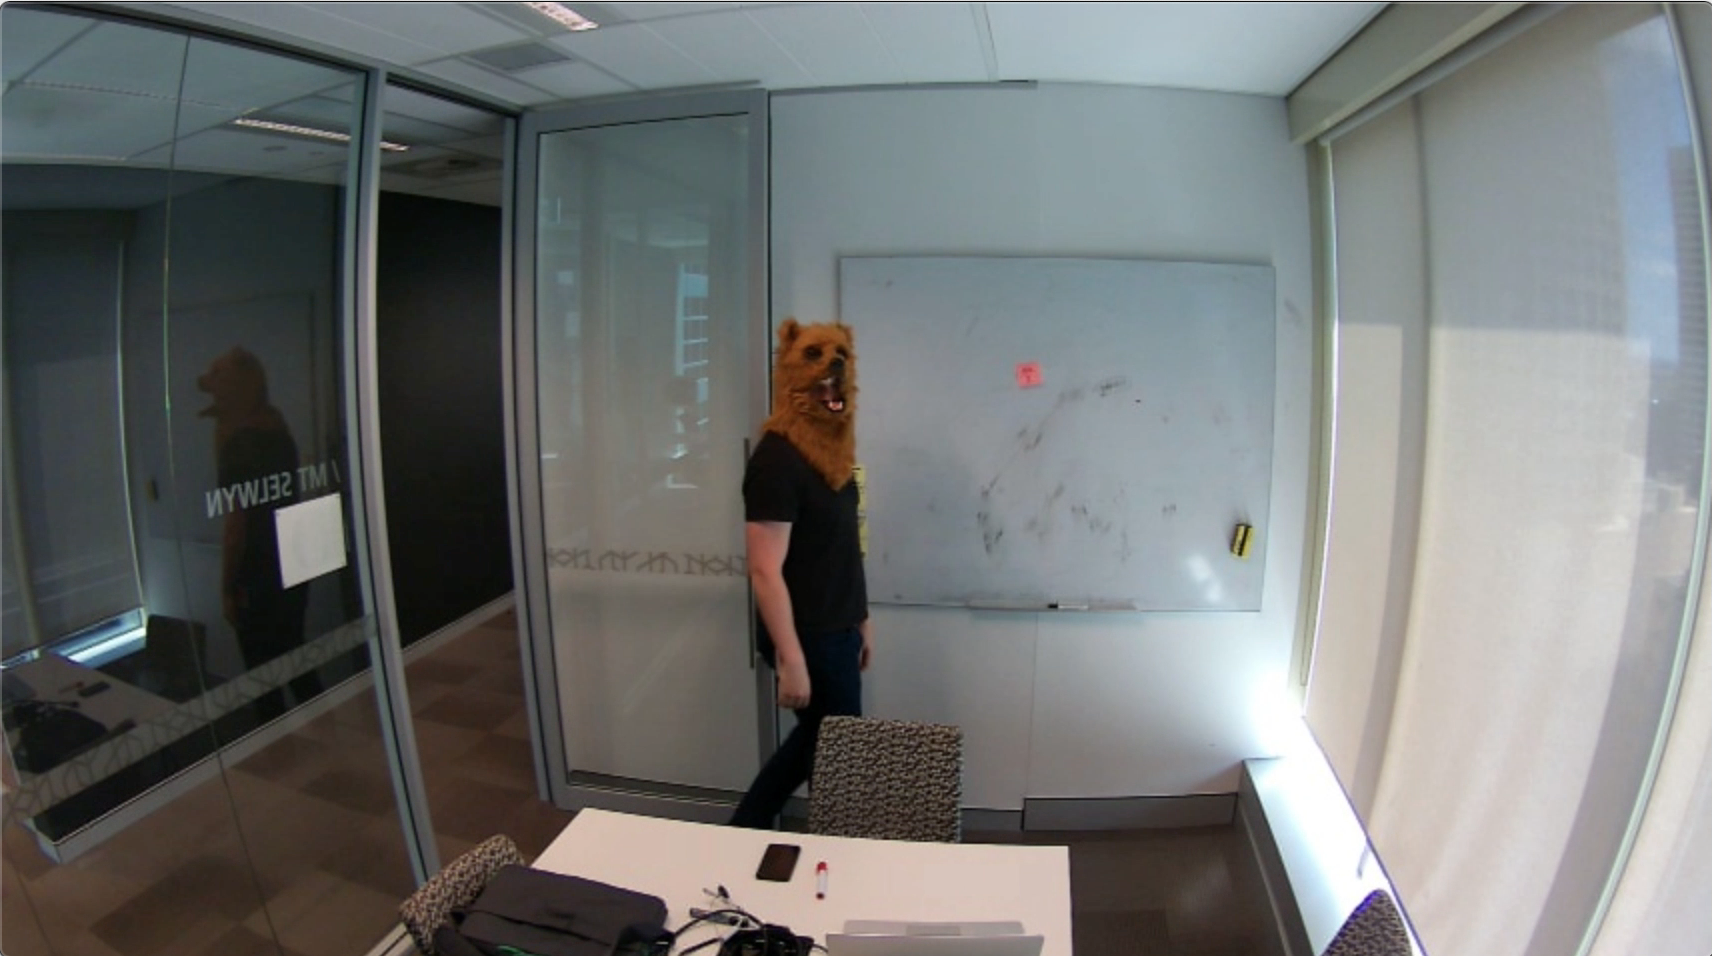Bear: (767, 316, 863, 441)
